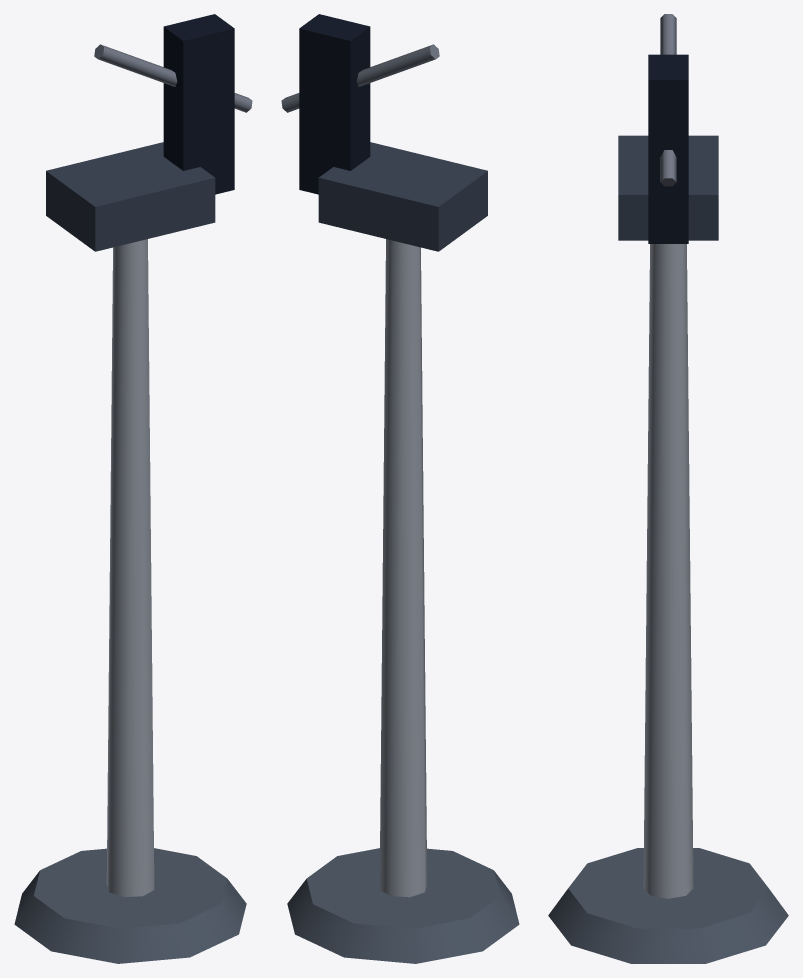
Rendered from parametric-source.glb.
3 renders of one model, left to right at view 1: azimuth 30°, elevation 25°; view 2: azimuth 150°, elevation 25°; view 3: azimuth 270°, elevation 25°, orthographic.
Visible parts, largest first — view 1: openclinxr.equipment.surgical_consult_phone_equipment.stand, openclinxr.equipment.surgical_consult_phone_equipment.base, openclinxr.equipment.surgical_consult_phone_equipment.cradle, openclinxr.equipment.surgical_consult_phone_equipment.handse, openclinxr.equipment.surgical_consult_phone_equipment.cord; view 2: openclinxr.equipment.surgical_consult_phone_equipment.stand, openclinxr.equipment.surgical_consult_phone_equipment.base, openclinxr.equipment.surgical_consult_phone_equipment.cradle, openclinxr.equipment.surgical_consult_phone_equipment.handse, openclinxr.equipment.surgical_consult_phone_equipment.cord; view 3: openclinxr.equipment.surgical_consult_phone_equipment.stand, openclinxr.equipment.surgical_consult_phone_equipment.base, openclinxr.equipment.surgical_consult_phone_equipment.handse, openclinxr.equipment.surgical_consult_phone_equipment.cradle, openclinxr.equipment.surgical_consult_phone_equipment.cord.
Boxes of the visible parts, x1,y1,x2,y2 form: openclinxr.equipment.surgical_consult_phone_equipment.stand: [106, 239, 154, 897]; openclinxr.equipment.surgical_consult_phone_equipment.base: [14, 848, 246, 963]; openclinxr.equipment.surgical_consult_phone_equipment.cradle: [46, 142, 215, 251]; openclinxr.equipment.surgical_consult_phone_equipment.handse: [163, 14, 234, 194]; openclinxr.equipment.surgical_consult_phone_equipment.cord: [94, 44, 252, 112]; openclinxr.equipment.surgical_consult_phone_equipment.stand: [379, 239, 427, 897]; openclinxr.equipment.surgical_consult_phone_equipment.base: [287, 848, 519, 963]; openclinxr.equipment.surgical_consult_phone_equipment.cradle: [318, 142, 487, 251]; openclinxr.equipment.surgical_consult_phone_equipment.handse: [299, 14, 370, 194]; openclinxr.equipment.surgical_consult_phone_equipment.cord: [281, 44, 439, 112]; openclinxr.equipment.surgical_consult_phone_equipment.stand: [643, 244, 693, 898]; openclinxr.equipment.surgical_consult_phone_equipment.base: [548, 848, 788, 963]; openclinxr.equipment.surgical_consult_phone_equipment.handse: [648, 54, 688, 243]; openclinxr.equipment.surgical_consult_phone_equipment.cradle: [618, 135, 718, 240]; openclinxr.equipment.surgical_consult_phone_equipment.cord: [660, 14, 676, 186].
Size of the model in its own units: 0.2542 by 0.976 by 0.24.
